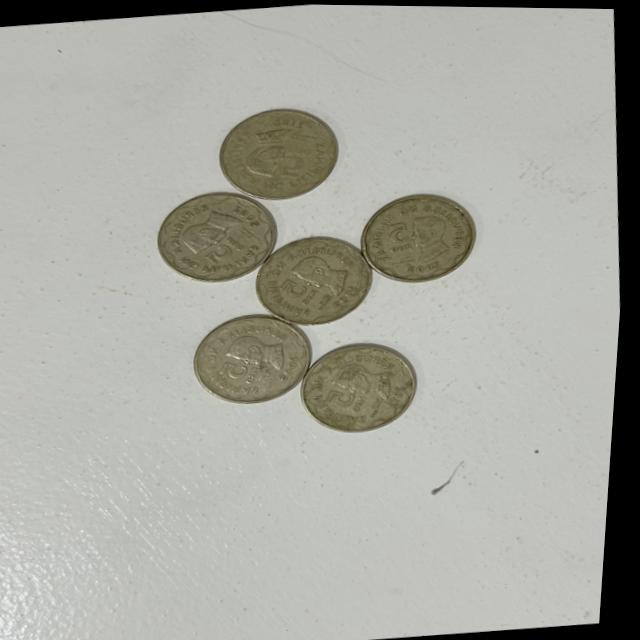5_Old_Front: (216, 353, 271, 390), (278, 137, 319, 178), (275, 273, 326, 305), (332, 384, 380, 416), (205, 235, 246, 269), (388, 218, 423, 251)
